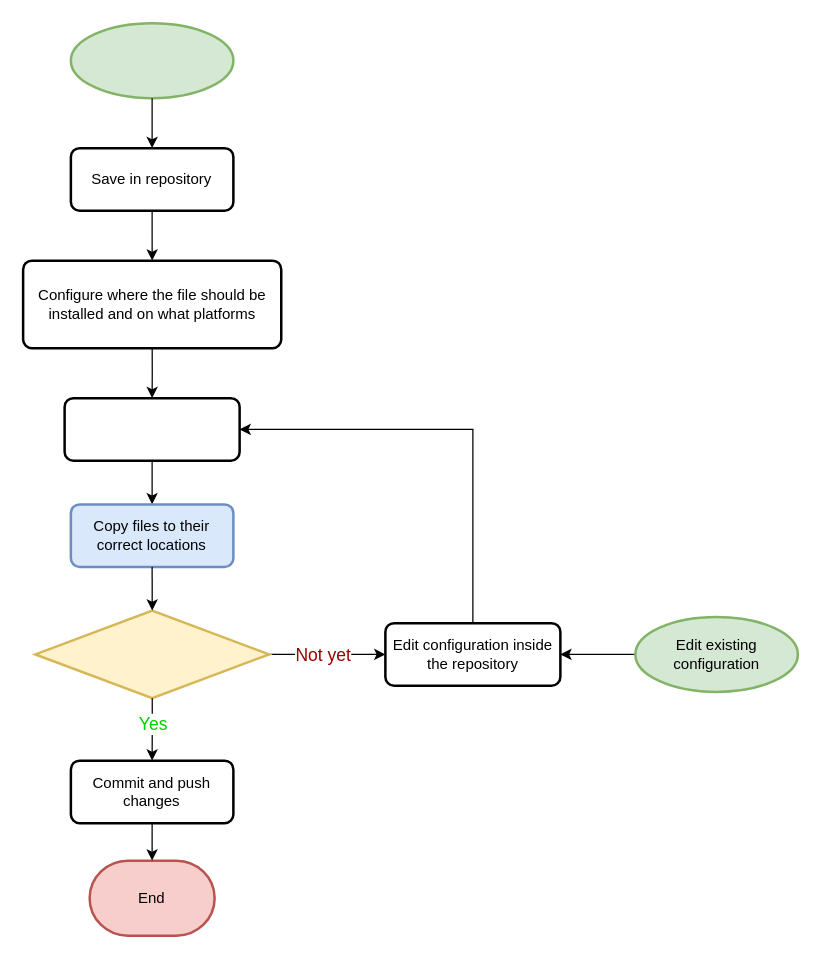
Image size: 820x958. Some labels were removed from this diagram. Each missing label, with the centre of its shape:
Configuration good?: the point at 152,654
Create new configuration file: the point at 151,60
Run install script: the point at 151,428
